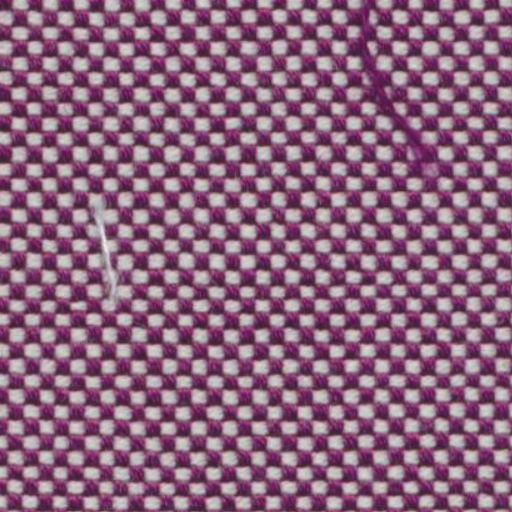DuanSha: (345, 7, 440, 178), (72, 194, 140, 316)
